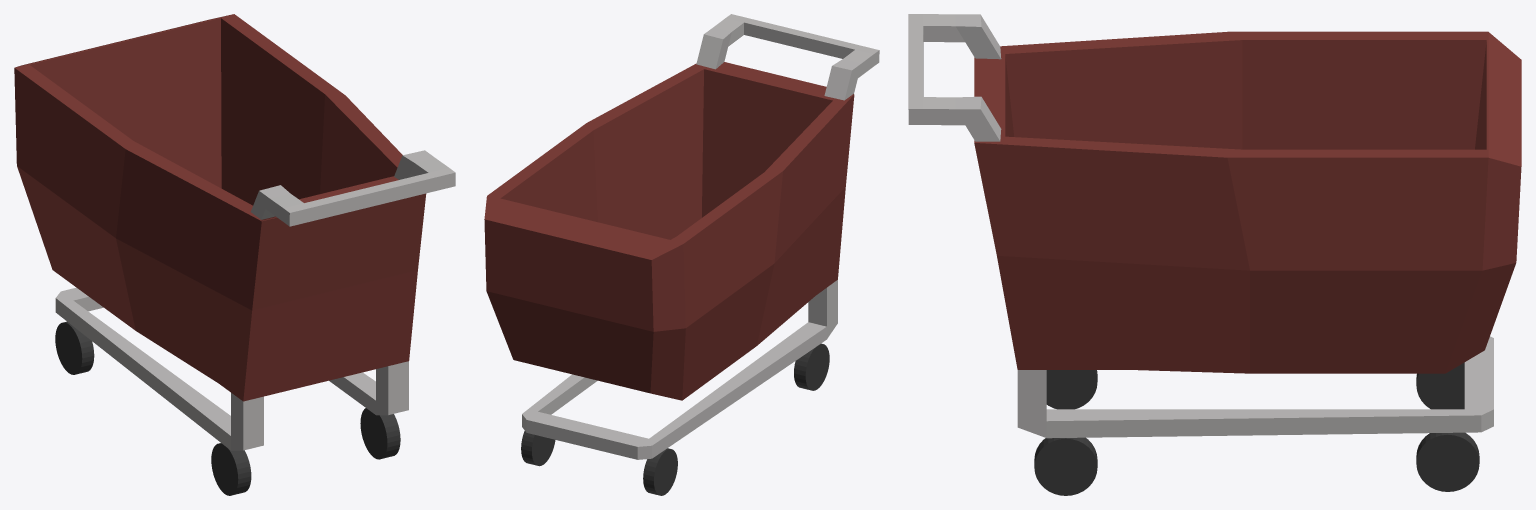
The model's file is CartOfTruth.glb.
3 renders of one model, left to right at view 1: azimuth 30°, elevation 25°; view 2: azimuth 150°, elevation 25°; view 3: azimuth 270°, elevation 25°, orthographic. The views are drawn at different scales.
Parts seen in each view (by area): view 1: Cube, Cylinder.001, Cylinder, Cylinder.002; view 2: Cube, Cylinder.002, Cylinder.001, Cylinder.003; view 3: Cube, Cylinder.003, Cylinder, Cylinder.001, Cylinder.002.
Part boxes in pixels (x1,y1,x2,y2): Cube: (14,14,455,450); Cylinder.001: (211,443,251,495); Cylinder: (360,408,400,459); Cylinder.002: (55,321,94,374); Cube: (484,14,879,459); Cylinder.002: (643,448,677,495); Cylinder.001: (794,343,829,390); Cylinder.003: (521,431,555,466); Cube: (908,14,1521,438); Cylinder.003: (1416,432,1479,491); Cylinder: (1034,437,1097,495); Cylinder.001: (1046,370,1097,409); Cylinder.002: (1416,362,1464,409).
Size of the model in its own units: 2.65 by 3.81 by 5.46.
